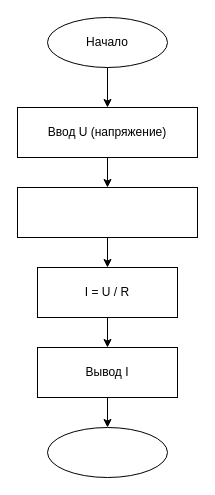
Some shapes in this 215 by 495 pixel diagram are drawn without their labels. Each missing label, with the centre of its shape:
"Ввод R (сопротивление)" goes at [107,212].
"Конец" goes at [107,452].
